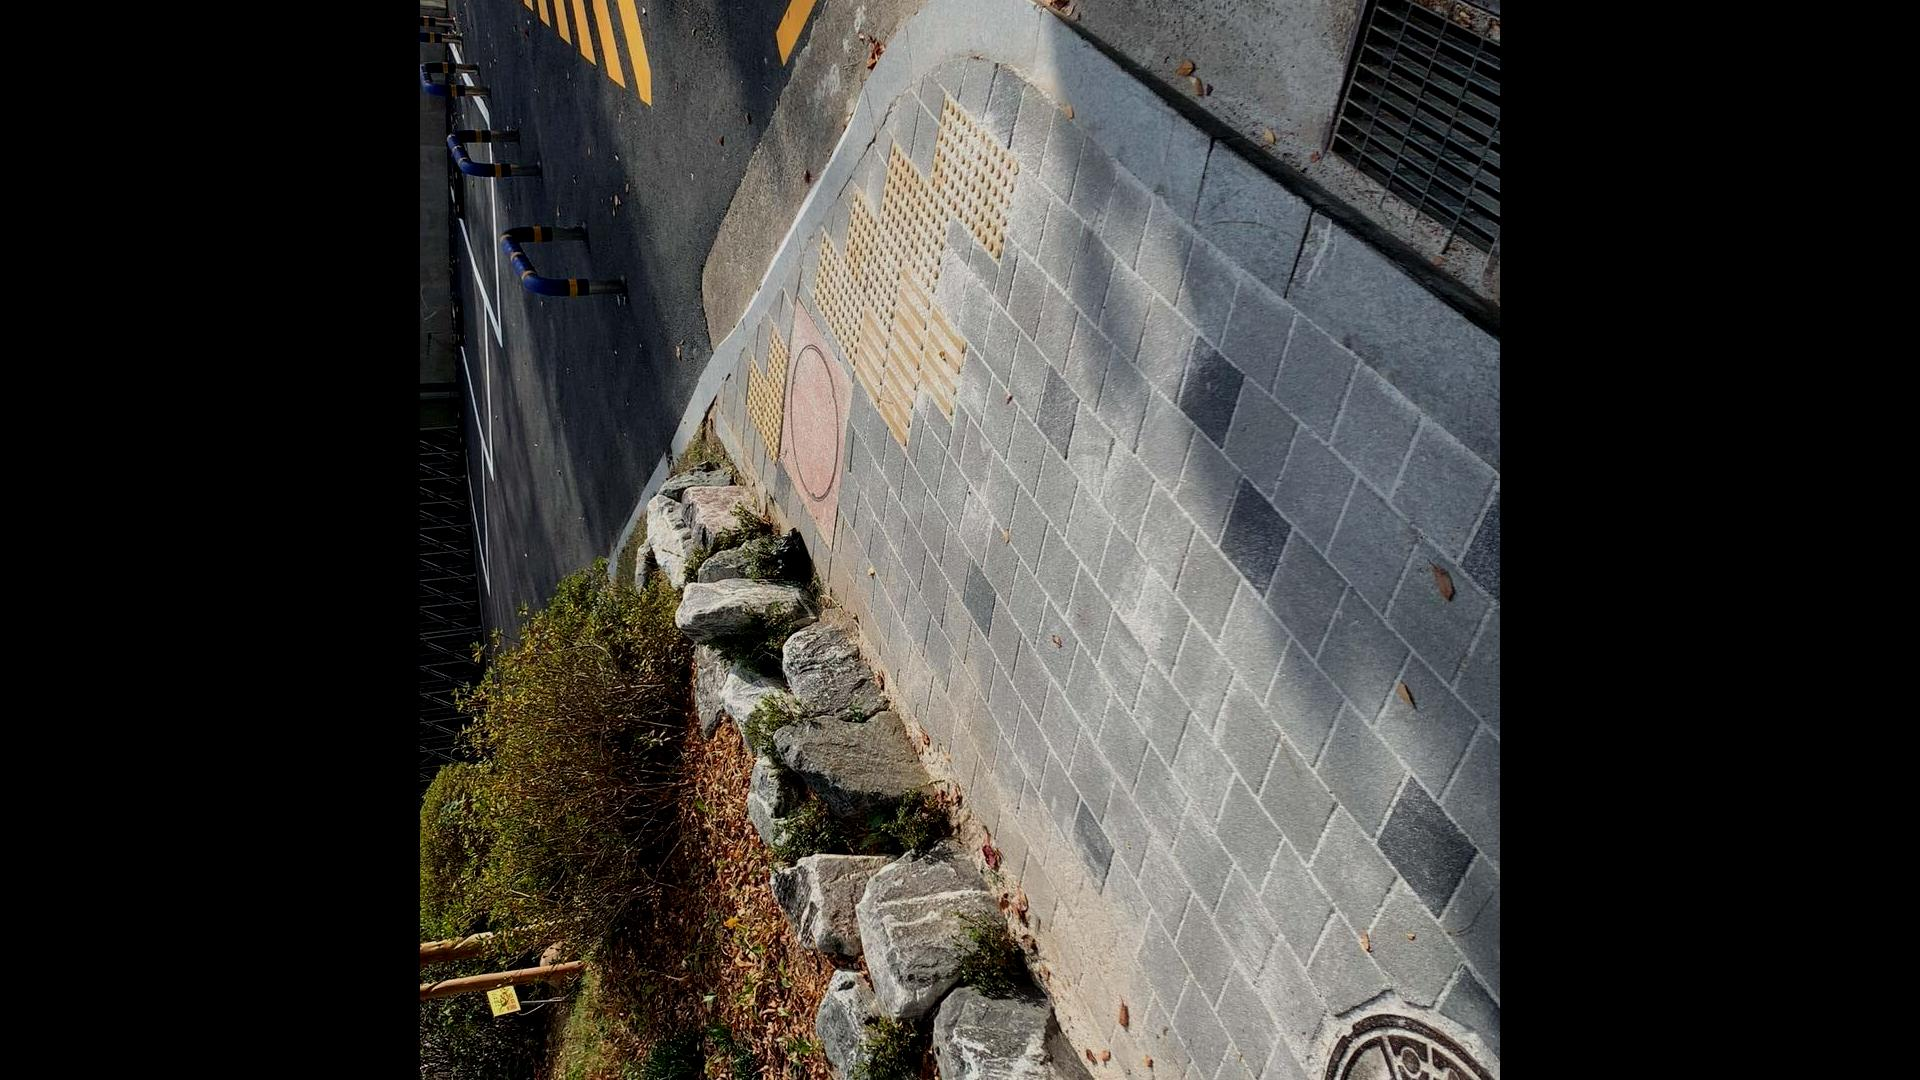black_bag: (758, 524, 808, 587)
